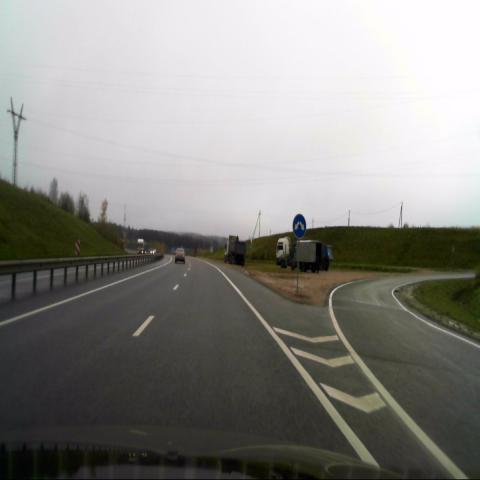4_2_3: (293, 214, 306, 238)
